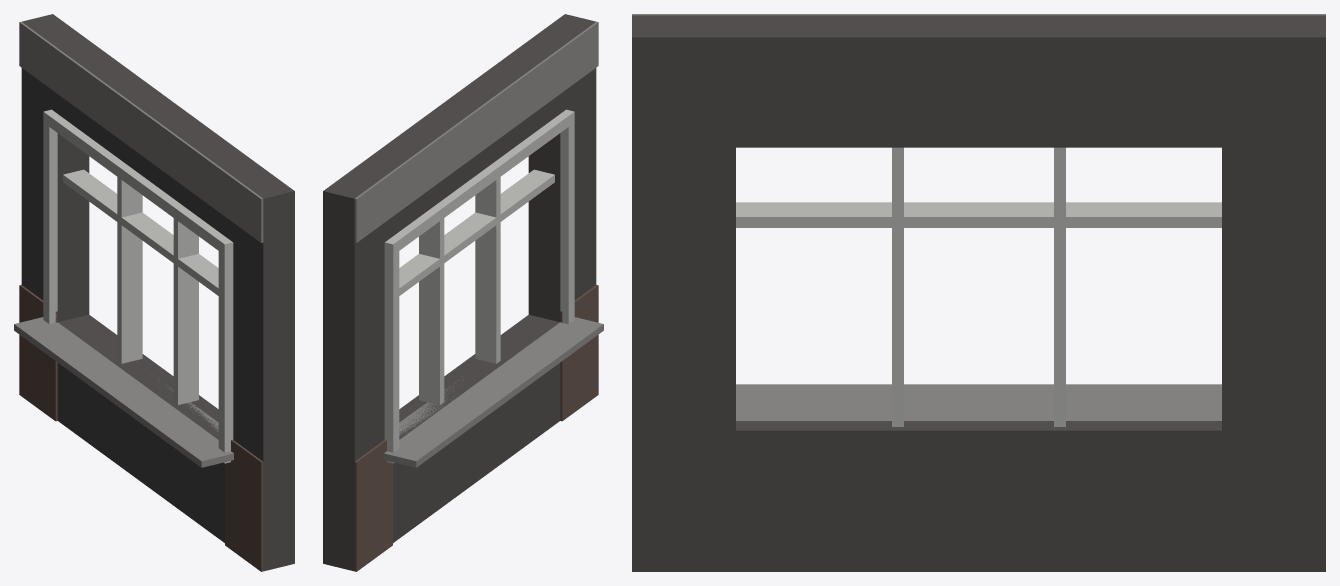
Rendered from B_k_win_pair.glb.
3 renders of one model, left to right at view 1: azimuth 30°, elevation 25°; view 2: azimuth 150°, elevation 25°; view 3: azimuth 270°, elevation 25°, orthographic. The views are drawn at different scales.
Visible parts, largest first — view 1: Cube.002, Cube.004, Cube, Cube.006, Cube.005, Cube.010, Cube.012, Cube.011, Cube.003, Cube.013, Cube.009, Cube.008 (+2 smaller); view 2: Cube, Cube.004, Cube.002, Cube.006, Cube.005, Cube.010, Cube.011, Cube.012, Cube.001, Cube.013, Cube.009, Cube.007 (+2 smaller); view 3: Cube.004, Cube.005, Cube, Cube.002, Cube.010, Cube.013, Cube.011, Cube.012, Cube.006.
Part boxes in pixels (x1=…): Cube.002: x1=227, y1=164, x2=294, y2=571; Cube.004: x1=57, y1=314, x2=224, y2=542; Cube: x1=21, y1=14, x2=89, y2=321; Cube.006: x1=19, y1=21, x2=263, y2=242; Cube.005: x1=57, y1=40, x2=258, y2=237; Cube.010: x1=14, y1=317, x2=233, y2=467; Cube.012: x1=173, y1=218, x2=198, y2=404; Cube.011: x1=117, y1=177, x2=142, y2=363; Cube.003: x1=225, y1=440, x2=263, y2=571; Cube.013: x1=63, y1=169, x2=218, y2=295; Cube.009: x1=43, y1=109, x2=232, y2=254; Cube.008: x1=218, y1=238, x2=233, y2=463; Cube: x1=323, y1=164, x2=390, y2=571; Cube.004: x1=393, y1=314, x2=560, y2=542; Cube.002: x1=528, y1=14, x2=596, y2=321; Cube.006: x1=354, y1=21, x2=598, y2=242; Cube.005: x1=359, y1=40, x2=560, y2=237; Cube.010: x1=384, y1=317, x2=603, y2=467; Cube.011: x1=419, y1=218, x2=444, y2=404; Cube.012: x1=475, y1=177, x2=500, y2=363; Cube.001: x1=354, y1=440, x2=392, y2=571; Cube.013: x1=399, y1=169, x2=554, y2=295; Cube.009: x1=385, y1=109, x2=574, y2=254; Cube.007: x1=384, y1=239, x2=399, y2=463; Cube.004: x1=734, y1=421, x2=1223, y2=571; Cube.005: x1=735, y1=15, x2=1223, y2=147; Cube: x1=1222, y1=15, x2=1325, y2=571; Cube.002: x1=632, y1=15, x2=735, y2=571; Cube.010: x1=736, y1=384, x2=1221, y2=420; Cube.013: x1=736, y1=202, x2=1221, y2=227; Cube.011: x1=1054, y1=147, x2=1065, y2=426; Cube.012: x1=892, y1=147, x2=903, y2=426; Cube.006: x1=632, y1=14, x2=1325, y2=15.
Bounding box in the file's own units: 0.63 × 3.4 × 4.
